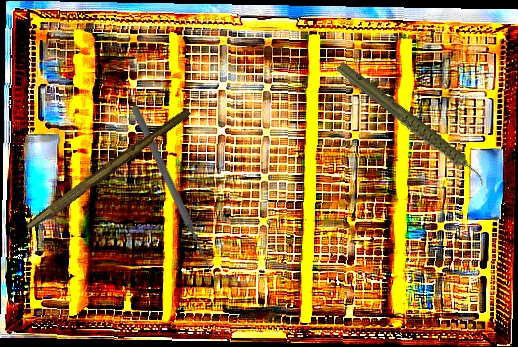Handpiece: (334, 38, 488, 213)
Pusher: (128, 103, 216, 274)
Scalpel Handle: (24, 104, 193, 236)
